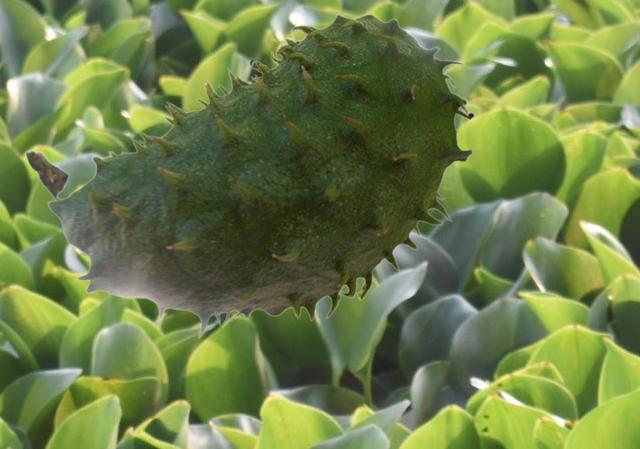guyabano: (24, 13, 474, 338)
